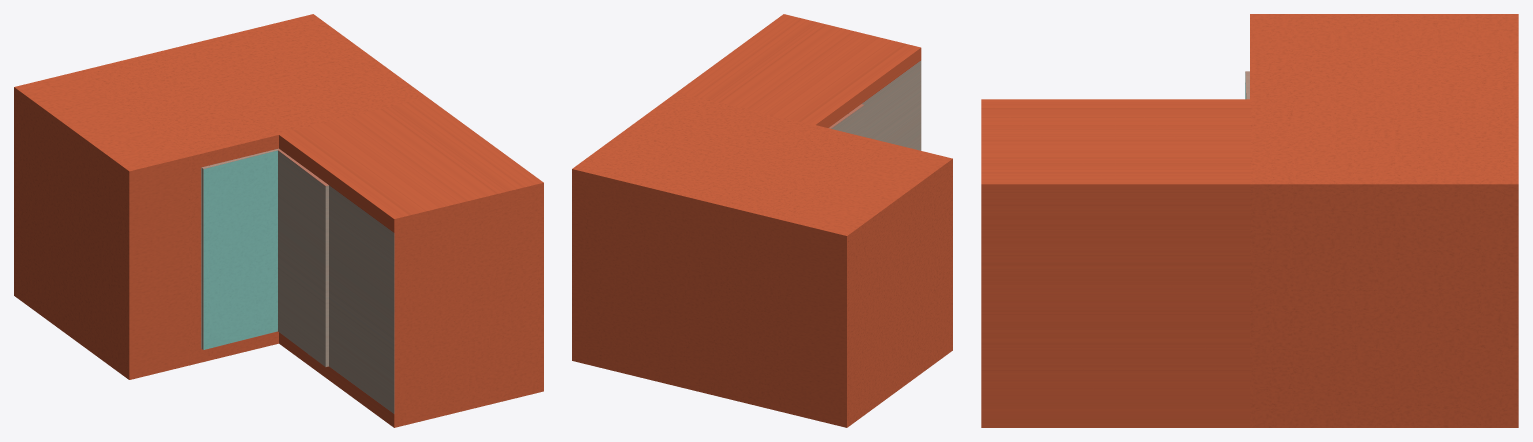
File: CornerKitchenCabinets.fbx
3 renders of one model, left to right at view 1: azimuth 30°, elevation 25°; view 2: azimuth 150°, elevation 25°; view 3: azimuth 270°, elevation 25°, orthographic. The views are drawn at different scales.
Parts seen in each view (by area): view 1: CornerKitchenCabinets_Baked; view 2: CornerKitchenCabinets_Baked; view 3: CornerKitchenCabinets_Baked.
Boxes of the visible parts, <box> form: CornerKitchenCabinets_Baked: <box>14,14,543,427</box>; CornerKitchenCabinets_Baked: <box>572,14,952,427</box>; CornerKitchenCabinets_Baked: <box>981,14,1518,427</box>.
Bounding box in the file's own units: 150 × 100 × 200.
Materials: 1 (1 with a texture image).
